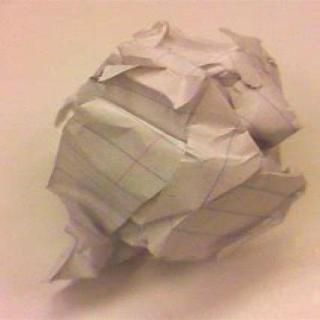Anorganik: (26, 17, 309, 295)
